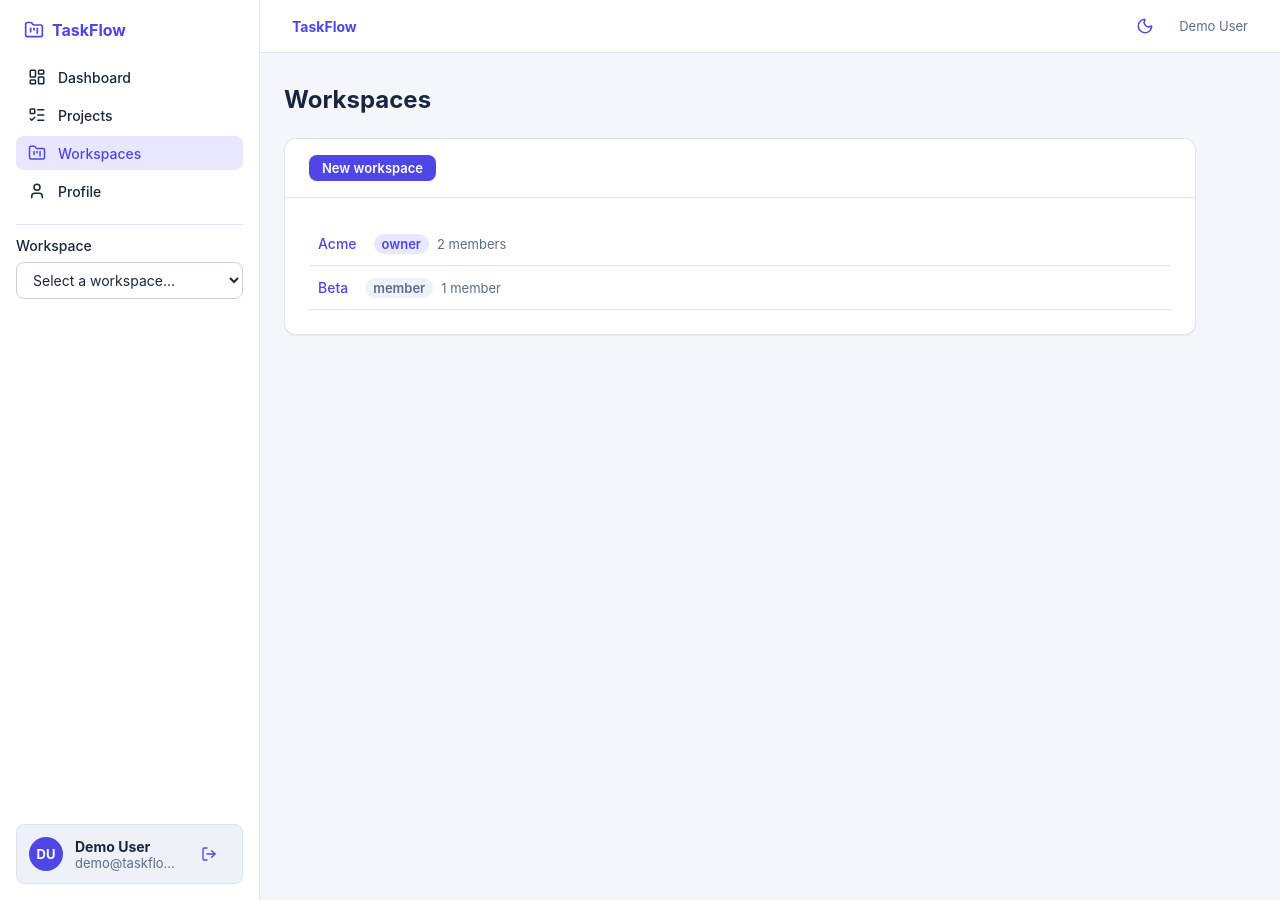
it: workspace-pane — "Workspace name opens the management drawer" (@w1) › member-role workspace hides management controls and never fetches invites
The width and height of the screenshot is (1280, 900).
Click the button "Beta": click(333, 288) [309,274,357,301]
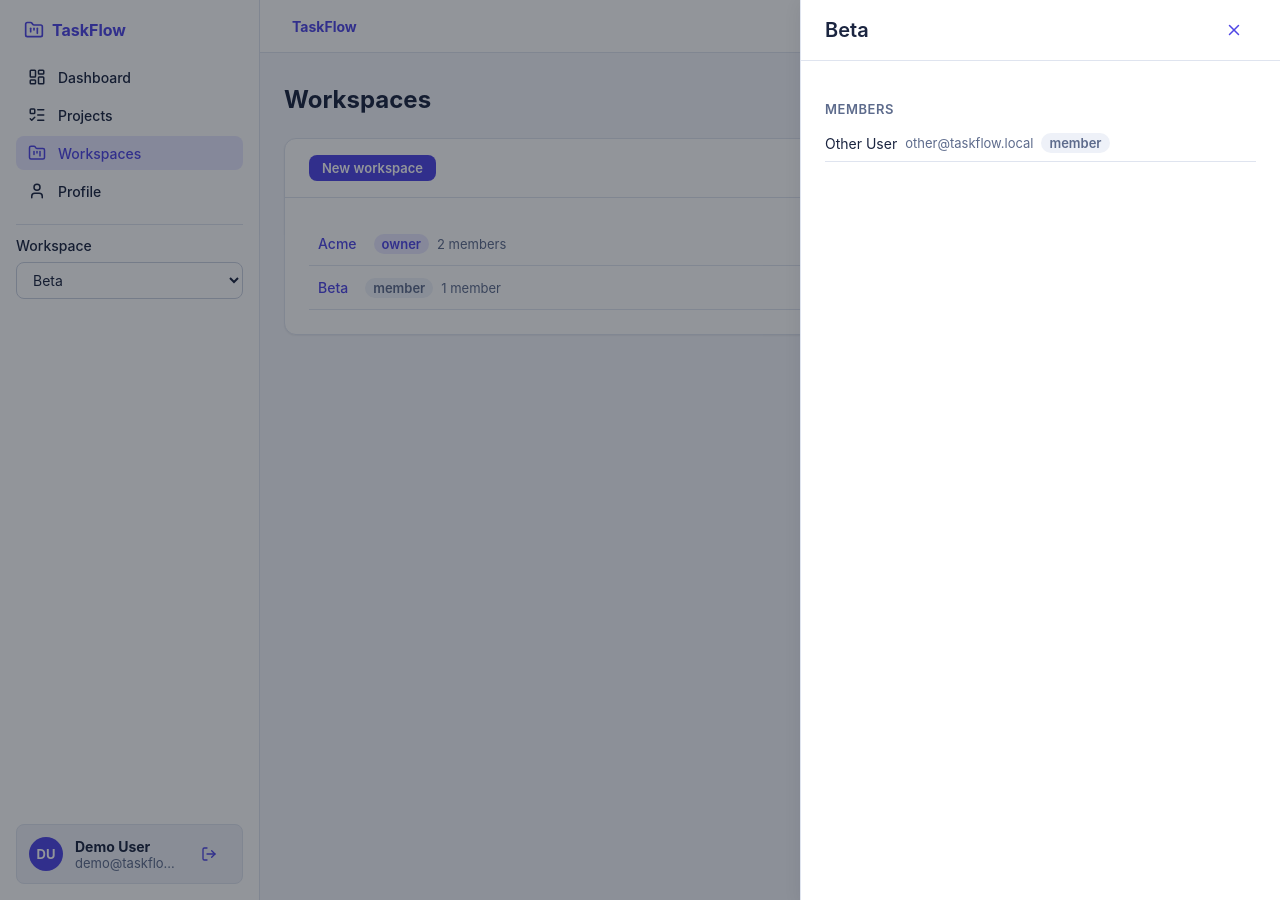
Expected: the list item "Other User" is shown, [825,134,897,152]
